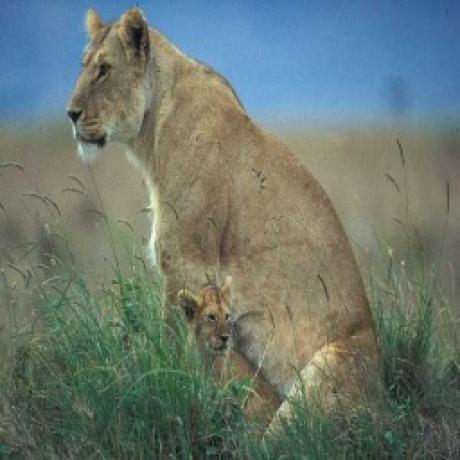Lion: (66, 3, 387, 432), (176, 272, 240, 377)
